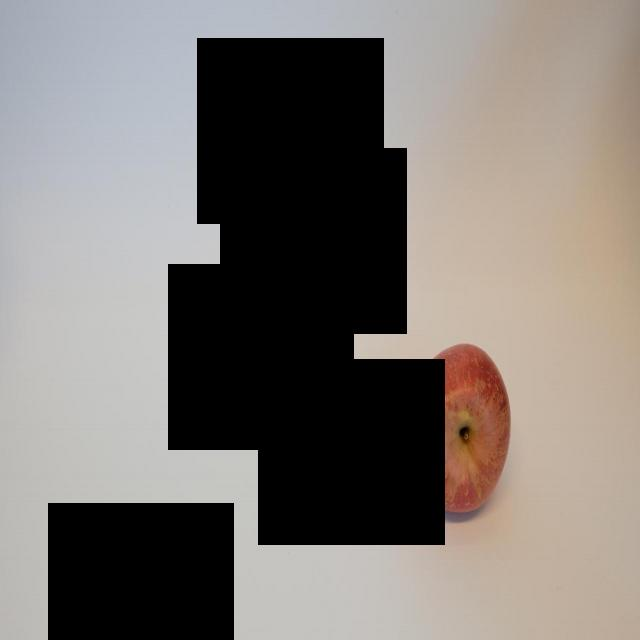apple: (413, 332, 514, 523)
